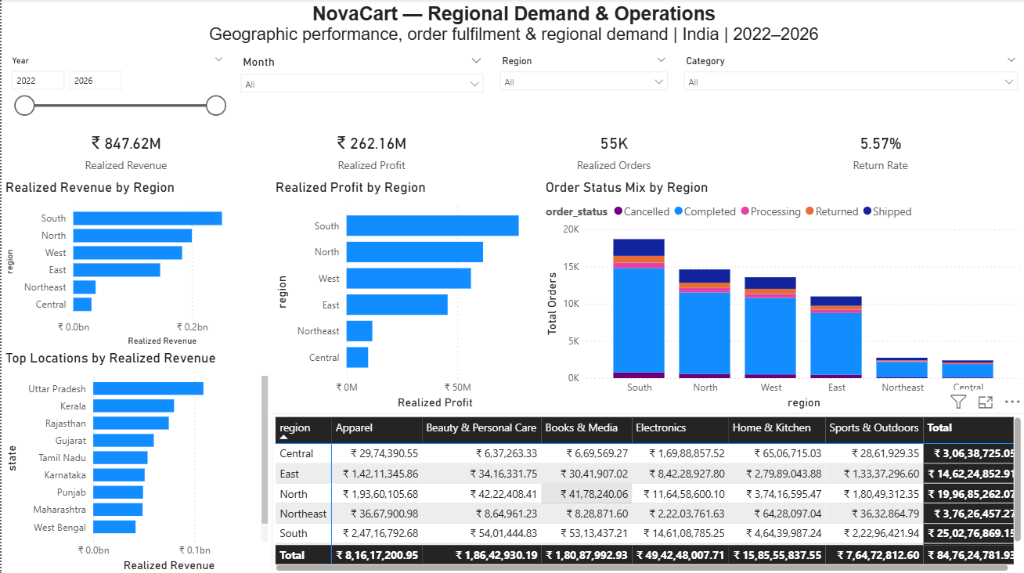

The dashboard page shown, as its layout file describes it:
{"tool":"powerbi","page":{"name":"Regional Operations","canvas":[1280,720],"ordinal":4},"visuals":[{"type":"textbox","box":[10,0,280,280],"z":0},{"type":"textbox","box":[0,0,1280.3,66],"z":1},{"type":"slicer","title":"YEAR","fields":{"Values":["dim_date.year"]},"box":[0,65,288.8,87.5],"z":2},{"type":"slicer","title":"MONTH","fields":{"Values":["dim_date.month_name"]},"box":[288.8,65,323.8,87.5],"z":3},{"type":"slicer","title":"REGION","fields":{"Values":["dim_location.region"]},"box":[612.5,65,230,87.5],"z":4},{"type":"slicer","title":"CATEGORY","fields":{"Values":["dim_product.category"]},"box":[842.5,65,437.5,87.5],"z":5},{"type":"card","fields":{"Values":["_Measures.Realized Revenue"]},"box":[0,152.5,311.2,72.5],"z":6},{"type":"card","fields":{"Values":["_Measures.Realized Profit"]},"box":[311.2,152.5,301.2,72.5],"z":7},{"type":"card","fields":{"Values":["_Measures.Realized Orders"]},"box":[612.5,152.5,305,72.5],"z":8},{"type":"card","fields":{"Values":["_Measures.Return Rate"]},"box":[917.5,152.5,362.5,72.5],"z":9},{"type":"clusteredBarChart","title":"Realized Revenue by Region","fields":{"Category":["dim_location.region"],"Y":["_Measures.Realized Revenue"]},"box":[0,225,337.5,212.8],"z":10},{"type":"clusteredBarChart","title":"Realized Profit by Region","fields":{"Y":["_Measures.Realized Profit"],"Category":["dim_location.region"]},"box":[337.5,225,337.5,292.3],"z":11},{"type":"columnChart","title":"Order Status Mix by Region","fields":{"Category":["dim_location.region"],"Series":["fact_sales.order_status"],"Y":["Customer Type.Total Orders"]},"box":[675,225,604.1,292.3],"z":12},{"type":"pivotTable","fields":{"Rows":["dim_location.region"],"Columns":["dim_product.category"],"Values":["_Measures.Realized Revenue"]},"box":[337.5,517.3,941.6,203],"z":13},{"type":"barChart","title":"Top Locations by Realized Revenue","fields":{"Category":["dim_customer.state"],"Y":["_Measures.Realized Revenue"]},"box":[0,437.8,337.5,282.5],"z":14}]}

Visuals, with their boxes in screenshot pixels (x1, y1, x2, y2), scaled from the page's 1280x720 canvas onto the 1024x573 screenshot:
textbox: 8/0/232/223
textbox: 0/0/1023/53
"YEAR" slicer: 0/52/231/121
"MONTH" slicer: 231/52/490/121
"REGION" slicer: 490/52/674/121
"CATEGORY" slicer: 674/52/1023/121
card - _Measures.Realized Revenue: 0/121/249/179
card - _Measures.Realized Profit: 249/121/490/179
card - _Measures.Realized Orders: 490/121/734/179
card - _Measures.Return Rate: 734/121/1023/179
"Realized Revenue by Region" clusteredBarChart: 0/179/270/348
"Realized Profit by Region" clusteredBarChart: 270/179/540/412
"Order Status Mix by Region" columnChart: 540/179/1023/412
pivotTable - dim_location.region x dim_product.category: 270/412/1023/572
"Top Locations by Realized Revenue" barChart: 0/348/270/572
